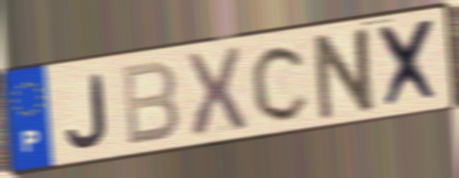B: (118, 58, 181, 149)
C: (248, 41, 312, 124)
J: (64, 71, 111, 151)
N: (312, 22, 380, 123)
X: (182, 44, 251, 143), (375, 15, 443, 112)
